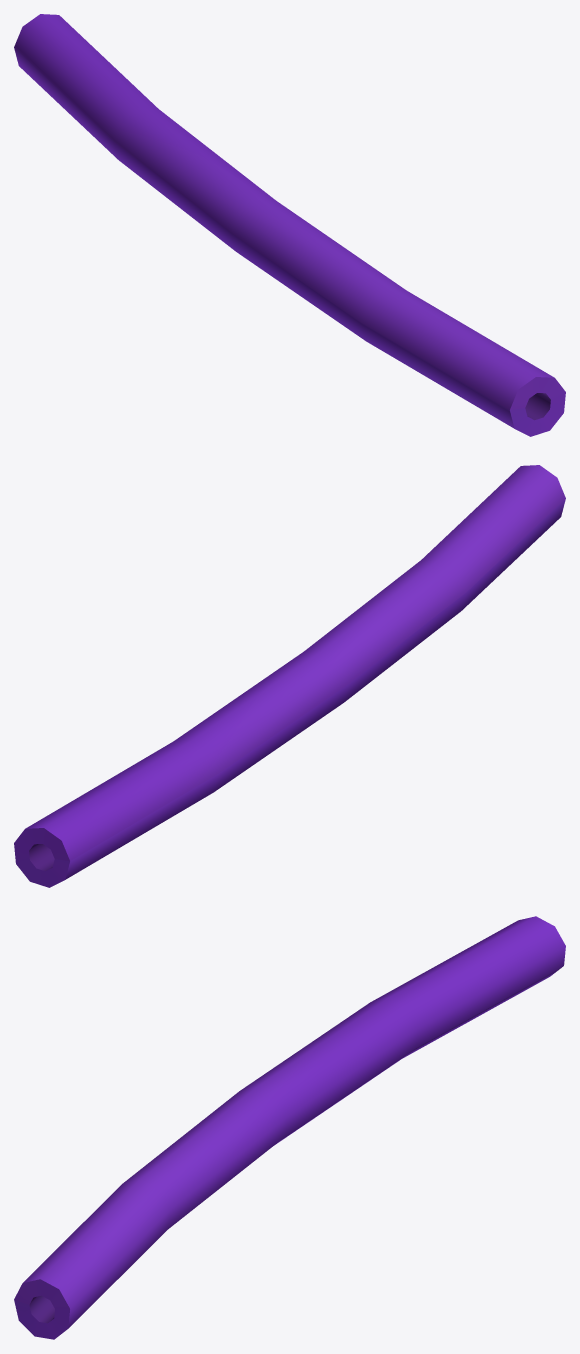
The model's file is PoolNoodlePurple.glb.
The picture shows the model from 3 angles, top to bottom: view 1: azimuth 30°, elevation 25°; view 2: azimuth 150°, elevation 25°; view 3: azimuth 330°, elevation 25°; orthographic projection.
Visible parts, largest first — view 1: PoolNoodlePurple; view 2: PoolNoodlePurple; view 3: PoolNoodlePurple.
Part boxes in pixels (x1=…): PoolNoodlePurple: x1=14, y1=14, x2=565, y2=436; PoolNoodlePurple: x1=14, y1=465, x2=565, y2=887; PoolNoodlePurple: x1=14, y1=916, x2=565, y2=1339.
Size of the model in its own units: 0.2596 by 0.1766 by 2.56.
Materials: 1 (1 with a texture image).
